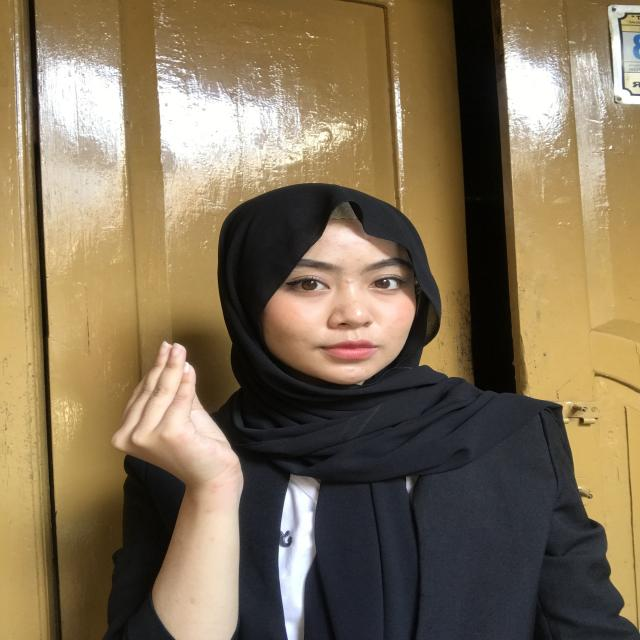kapan: (119, 326, 251, 526)
